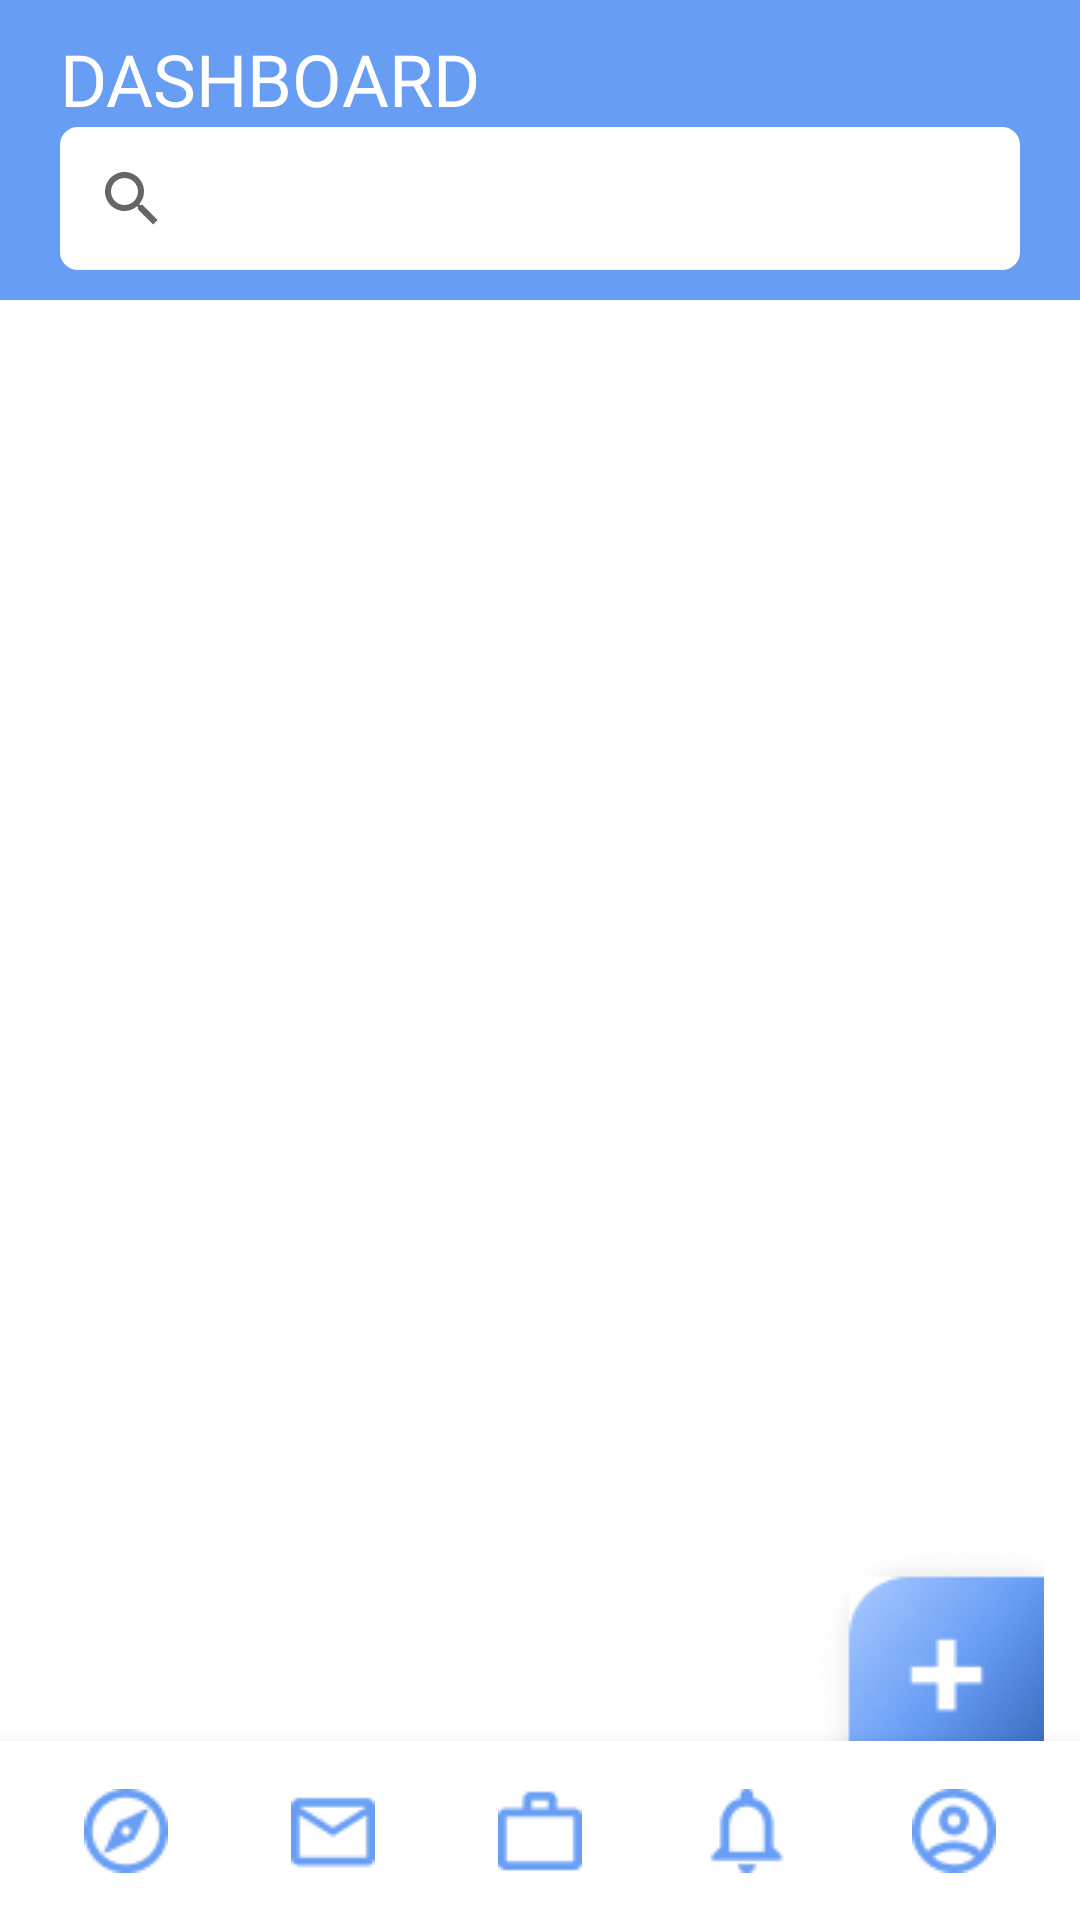

Icon bounding boxes for this 1080*1920 phone screenshot, format bbox=[x1, y1, x2, y2]:
explore: bbox=[84, 1789, 168, 1873]
mail: bbox=[291, 1797, 375, 1868]
notifications none: bbox=[710, 1789, 784, 1873]
work: bbox=[498, 1791, 582, 1871]
